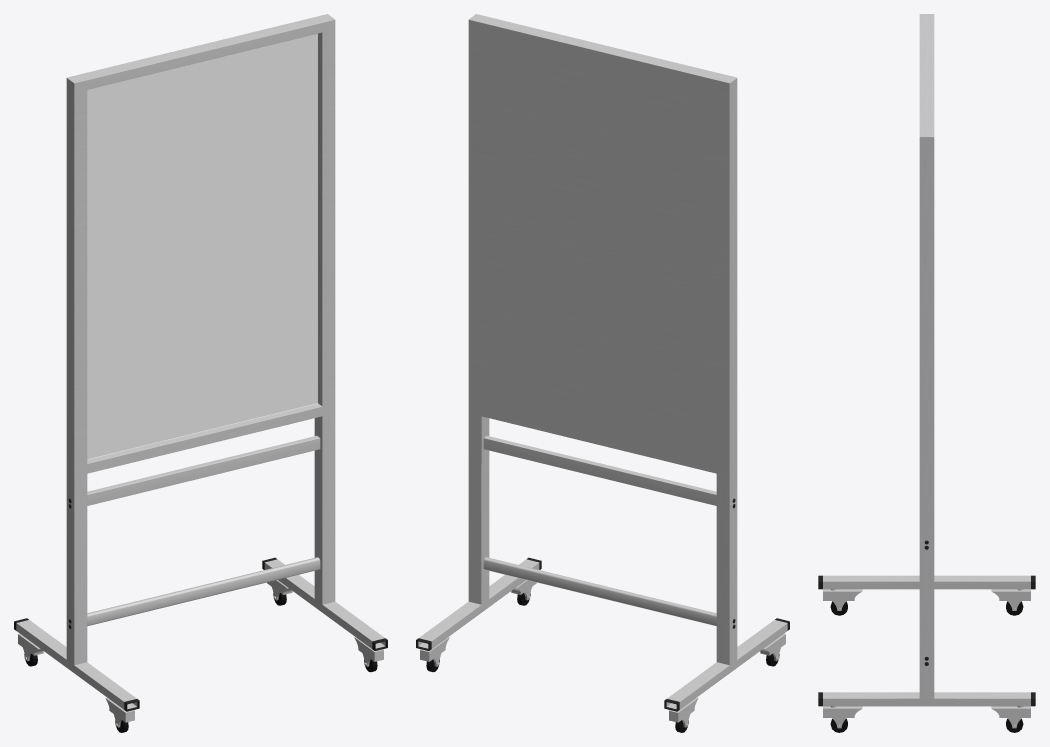
File: whiteboard.fbx
The picture shows the model from 3 angles, left to right: view 1: azimuth 30°, elevation 25°; view 2: azimuth 150°, elevation 25°; view 3: azimuth 270°, elevation 25°; orthographic projection. The views are drawn at different scales.
Visible parts, largest first — view 1: whiteboard_lo; view 2: whiteboard_lo; view 3: whiteboard_lo.
Boxes of the visible parts, box(x1,y1,x2,y2) form: whiteboard_lo: box(14, 14, 387, 732); whiteboard_lo: box(416, 14, 789, 732); whiteboard_lo: box(818, 14, 1035, 732).
Bounding box in the file's own units: 1.11 × 2.5 × 0.823.
